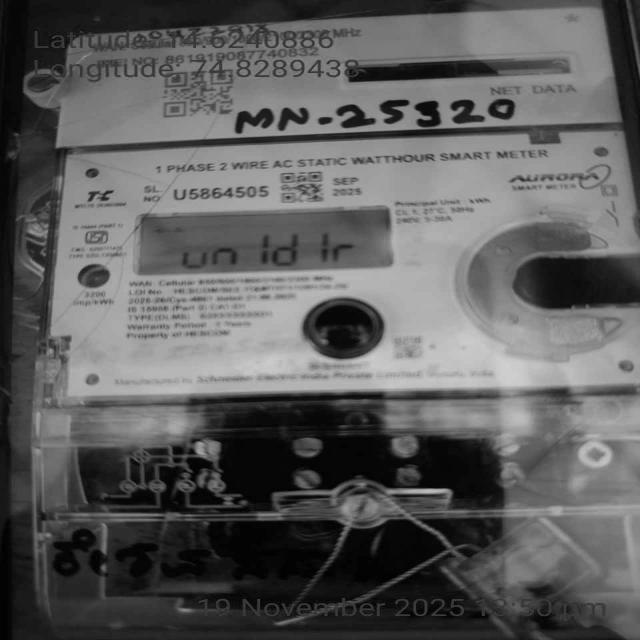meter: (48, 8, 640, 389)
